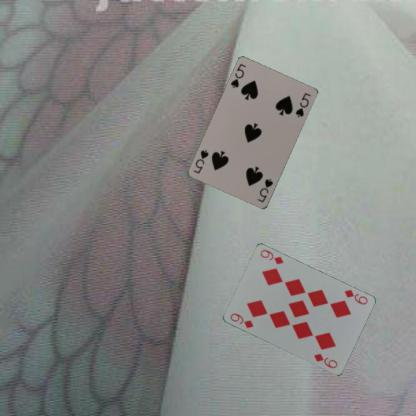5s: (228, 61, 247, 90), (255, 176, 274, 204)
9d: (341, 287, 368, 306), (228, 311, 255, 329)
